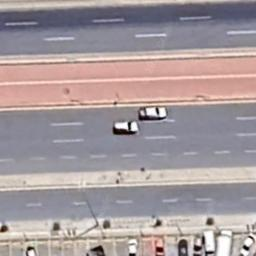SUV: (192, 236, 202, 256)
sedan: (138, 106, 168, 120), (128, 238, 138, 256), (178, 238, 188, 256), (156, 237, 164, 256)
unknown: (86, 245, 106, 256), (26, 246, 36, 256)
van: (112, 120, 140, 134), (203, 230, 215, 256)
